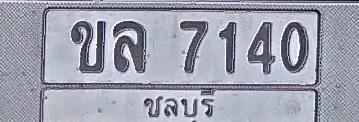0: (281, 21, 308, 72)
1: (218, 21, 236, 74)
4: (248, 21, 274, 74)
7: (179, 20, 207, 73)
A02: (70, 20, 106, 73)
A36: (113, 20, 146, 72)
CBI: (137, 85, 220, 122)
